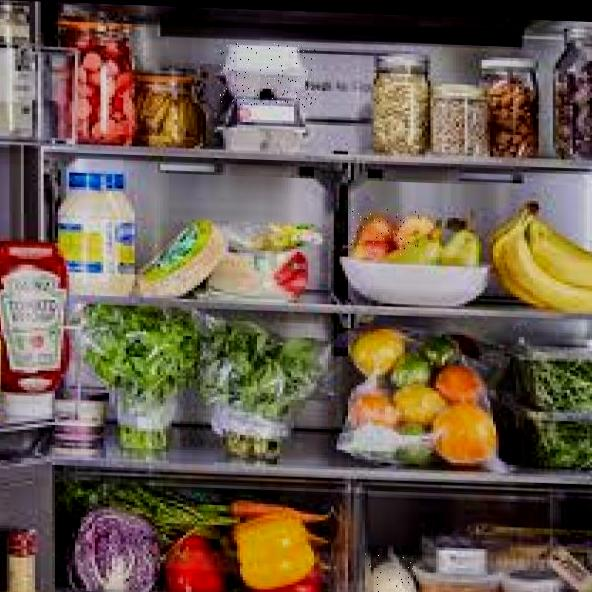apple: (351, 208, 422, 257)
banana: (490, 199, 592, 308)
butter: (425, 530, 493, 578)
cheese: (365, 553, 419, 592)
eggs: (220, 41, 317, 108)
